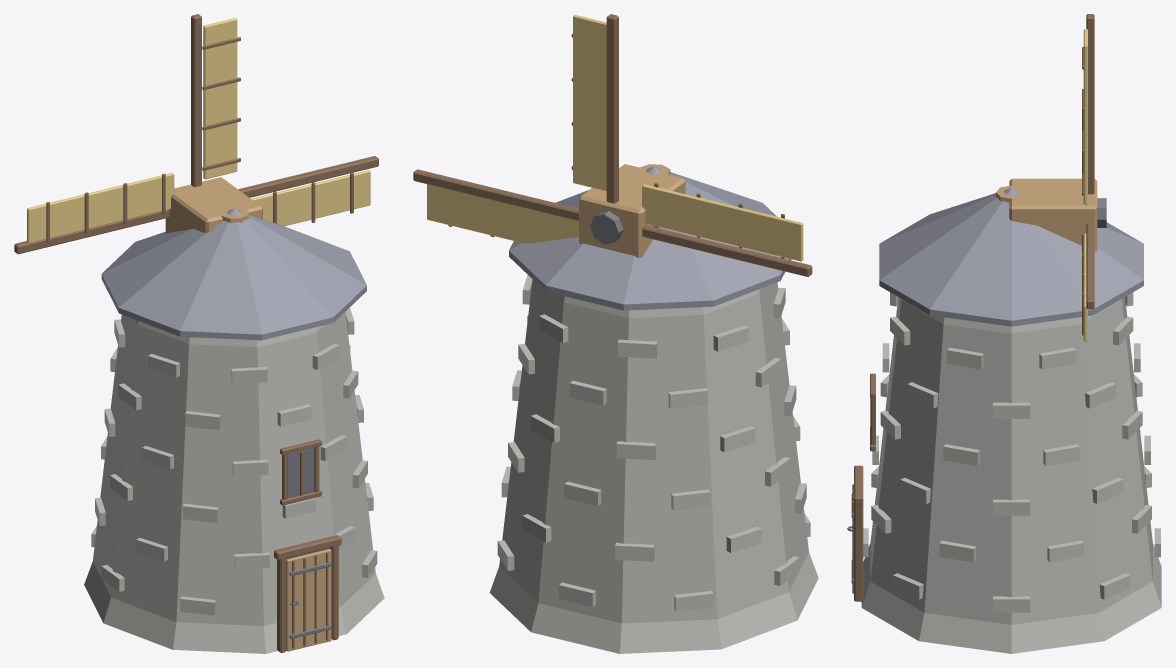
The model's file is windmill.glb.
3 renders of one model, left to right at view 1: azimuth 30°, elevation 25°; view 2: azimuth 150°, elevation 25°; view 3: azimuth 270°, elevation 25°, orthographic. The views are drawn at different scales.
Visible parts, largest first — view 1: windmill, sails/thatch, sails/timber, door/wood, door/timber; view 2: windmill, sails/thatch, sails/timber, sails/iron; view 3: windmill, sails/timber, sails/thatch.
Part boxes in pixels (x1,y1,x2,y2): windmill: [84, 177, 384, 653]; sails/thatch: [27, 18, 370, 243]; sails/timber: [14, 14, 378, 254]; door/wood: [286, 549, 331, 651]; door/timber: [292, 552, 328, 648]; windmill: [489, 164, 818, 653]; sails/thatch: [427, 15, 803, 261]; sails/timber: [413, 14, 812, 276]; sails/iron: [590, 211, 623, 244]; windmill: [854, 178, 1161, 653]; sails/timber: [1082, 14, 1094, 335]; sails/thatch: [1083, 29, 1087, 341].
Bounding box in the file's own units: 9.4 × 13.6 × 6.78.
